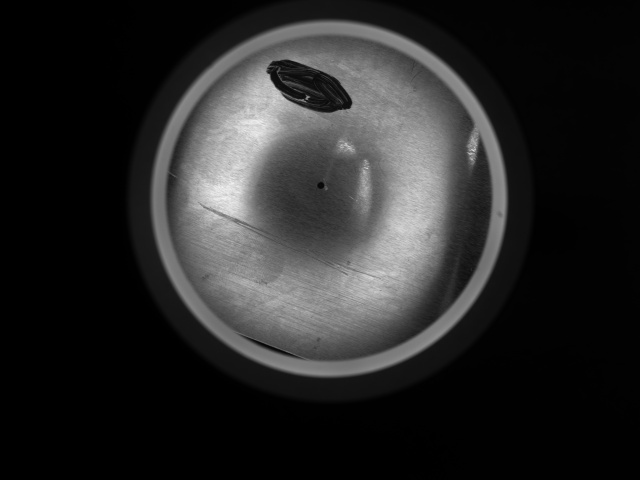ca_shang: (192, 198, 433, 293)
zang_wu: (266, 55, 356, 115)
zhen_kong: (313, 176, 331, 194)
